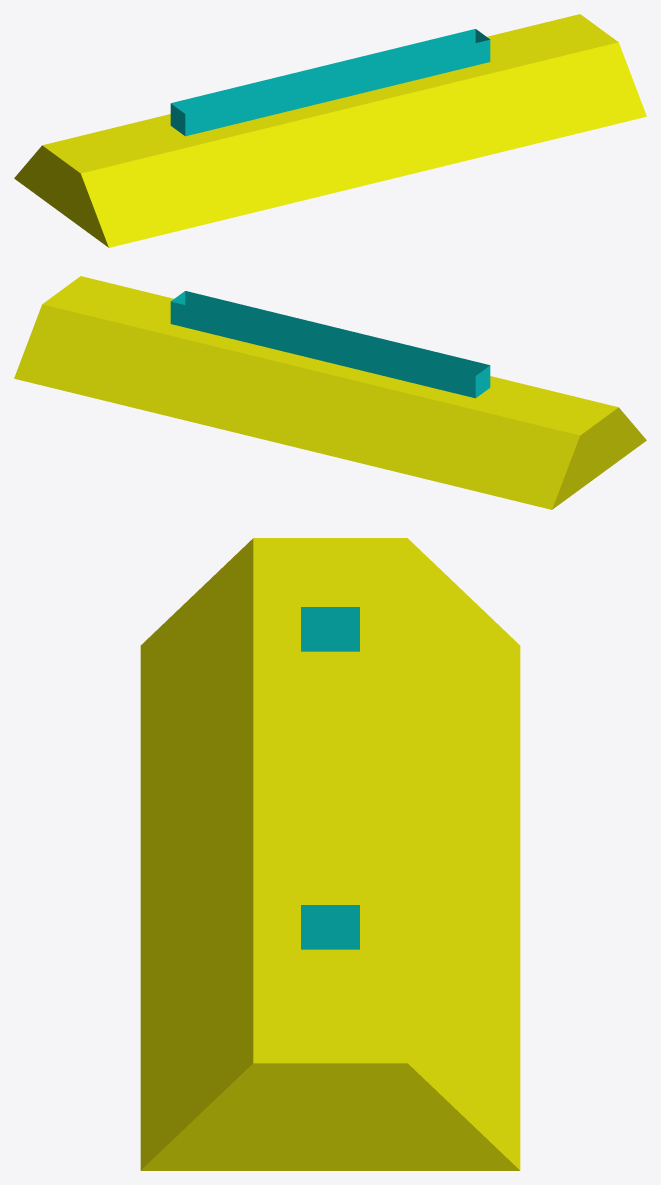
The model's file is Lamp.fbx.
3 renders of one model, top to bottom at view 1: azimuth 30°, elevation 25°; view 2: azimuth 150°, elevation 25°; view 3: azimuth 270°, elevation 25°, orthographic. The views are drawn at different scales.
Parts seen in each view (by area): view 1: LOW_Accesorios_lampara; view 2: LOW_Accesorios_lampara; view 3: LOW_Accesorios_lampara.
Part boxes in pixels (x1,y1,x2,y2): LOW_Accesorios_lampara: (14,14,646,247); LOW_Accesorios_lampara: (14,276,646,509); LOW_Accesorios_lampara: (140,538,520,1170).
Size of the model in its own units: 21.06 by 2.85 by 6.44.
